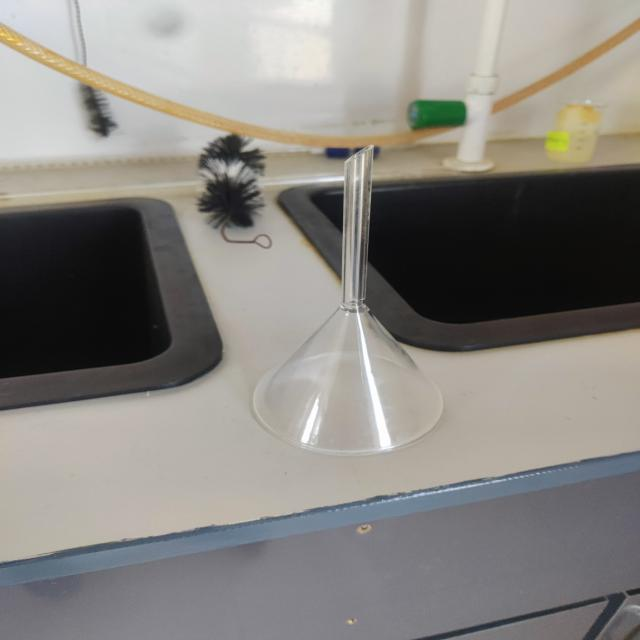Funnel: (205, 120, 490, 480)
